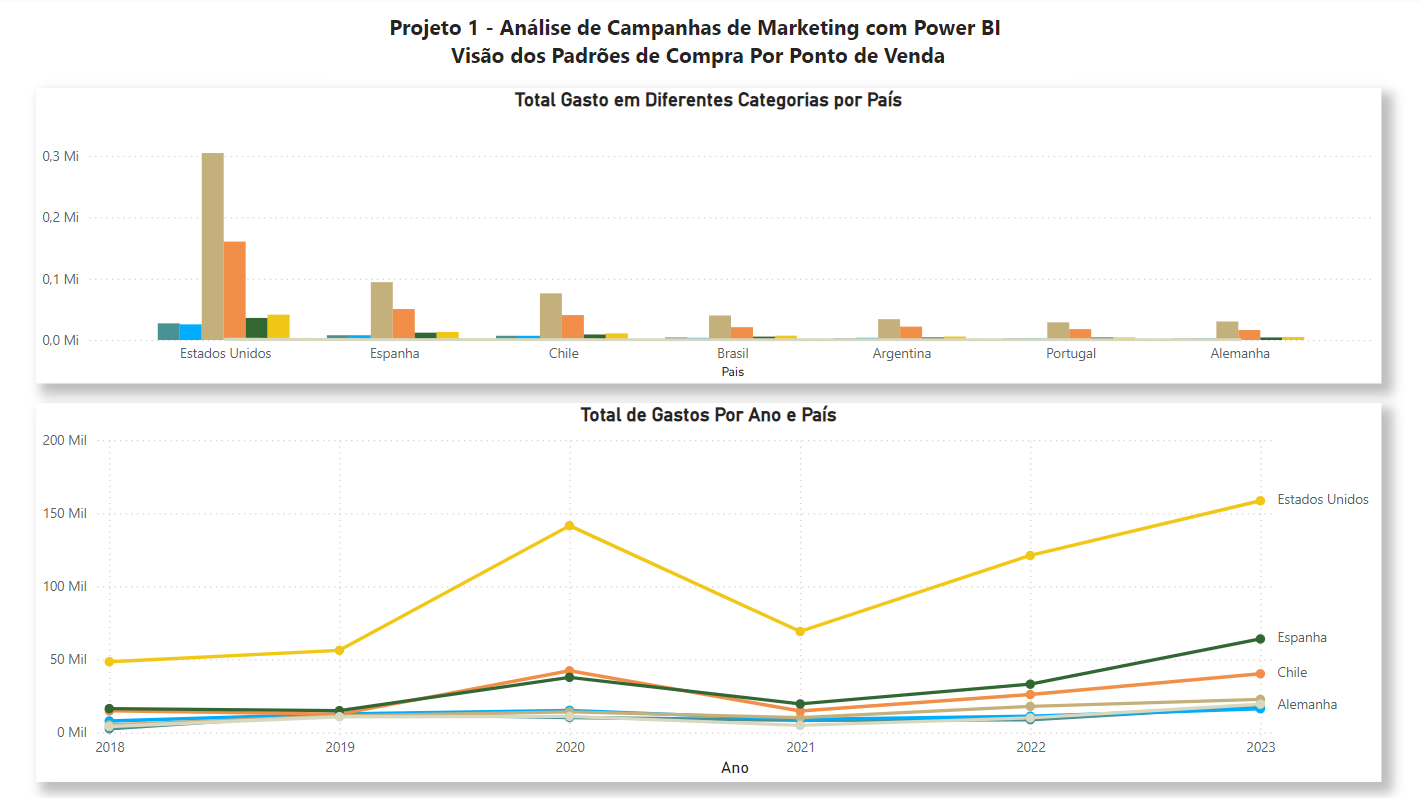

What the dashboard file says about the page in this screenshot:
{"tool":"powerbi","page":{"name":"Visão Pontos de Venda","canvas":[1280,720],"ordinal":3},"visuals":[{"type":"lineClusteredColumnComboChart","title":"Total Gasto em Diferentes Categorias por País","fields":{"Category":["DadosMarketing.Pais"],"Y":["Sum(DadosMarketing.Gasto com Alimentos)","Sum(DadosMarketing.Gasto com Brinquedos)","Sum(DadosMarketing.Gasto com Eletronicos)","Sum(DadosMarketing.Gasto com Moveis)","Sum(DadosMarketing.Gasto com Utilidades)","Sum(DadosMarketing.Gasto com Vestuario)"],"Y2":["CountNonNull(DadosMarketing.ID)"]},"box":[43.4,80.7,1192.6,262.5],"z":0},{"type":"lineChart","title":"Total de Gastos Por Ano e País","fields":{"Y":["DadosMarketing.TotalGasto"],"Series":["DadosMarketing.Pais"],"Category":["DadosMarketing.Data Cadastro.Variation.Hierarquia de datas.Ano"]},"box":[43.4,360,1192.6,336.1],"z":1000},{"type":"textbox","box":[300.6,8.9,659.7,65.6],"z":1001}]}

Visuals, with their boxes in screenshot pixels (x1, y1, x2, y2), scaled from the page's 1280x720 canvas onto the 1420x798 screenshot:
"Total Gasto em Diferentes Categorias por País" lineClusteredColumnComboChart: (48, 89, 1371, 380)
"Total de Gastos Por Ano e País" lineChart: (48, 399, 1371, 772)
textbox: (333, 10, 1065, 83)
